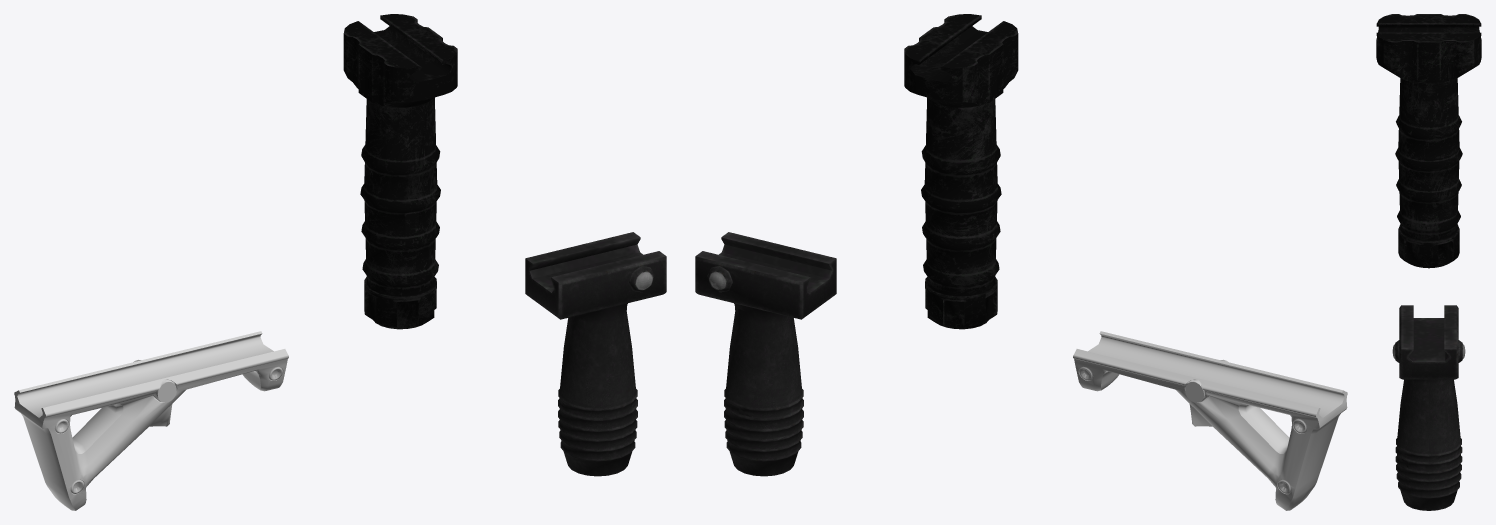
Rendered from Grip.FBX.
The picture shows the model from 3 angles, left to right: view 1: azimuth 30°, elevation 25°; view 2: azimuth 150°, elevation 25°; view 3: azimuth 270°, elevation 25°; orthographic projection. The views are drawn at different scales.
Parts seen in each view (by area): view 1: Grip_01, Vector_VerGrip_Setting, AngledForeGrip; view 2: Grip_01, Vector_VerGrip_Setting, AngledForeGrip; view 3: Grip_01, Vector_VerGrip_Setting.
Boxes of the visible parts, left/top/right/bottom form: Grip_01: left=343, top=14, right=457, bottom=329; Vector_VerGrip_Setting: left=525, top=232, right=666, bottom=476; AngledForeGrip: left=14, top=331, right=288, bottom=510; Grip_01: left=904, top=14, right=1018, bottom=329; Vector_VerGrip_Setting: left=695, top=232, right=836, bottom=476; AngledForeGrip: left=1073, top=331, right=1347, bottom=510; Grip_01: left=1376, top=14, right=1481, bottom=268; Vector_VerGrip_Setting: left=1392, top=305, right=1465, bottom=510.
Bounding box in the file's own units: 30.73 × 22.23 × 5.43.
